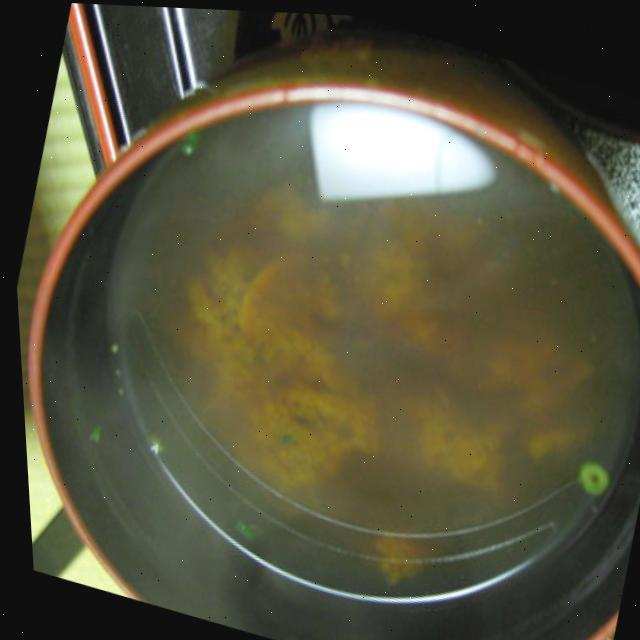汤锅炖物: (19, 47, 640, 640)
